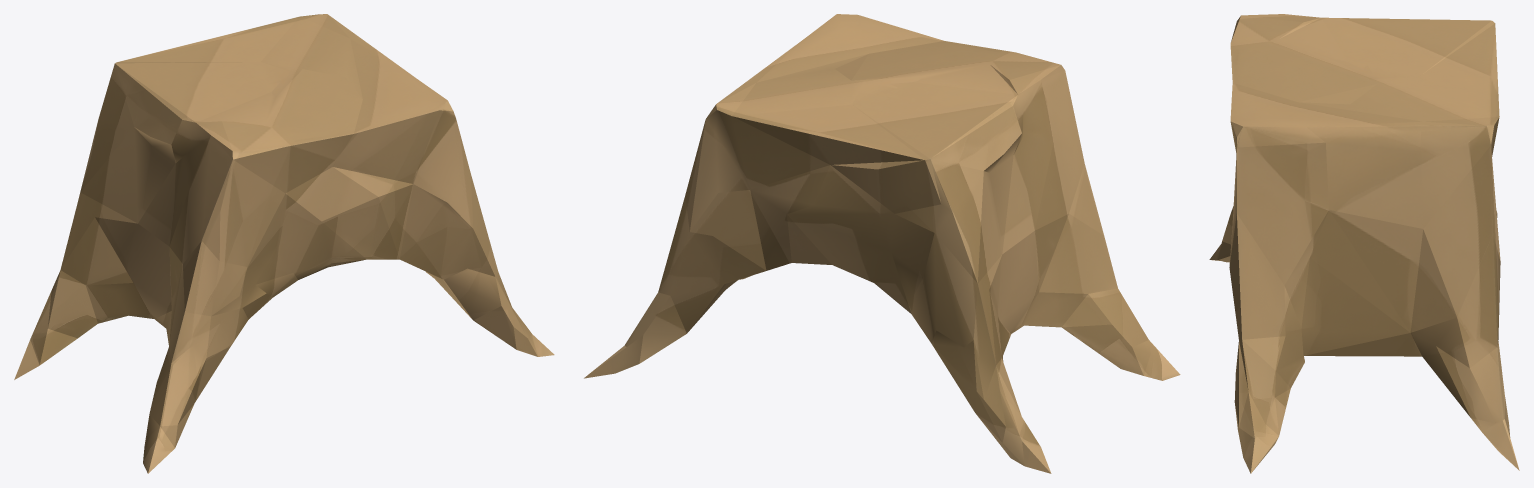
Rendered from Meshy_AI_Box_Cloth_Cover_Lowpo_1007092946_texture.fbx.
3 views of the same model, side by side, from view 1: azimuth 30°, elevation 25°; view 2: azimuth 150°, elevation 25°; view 3: azimuth 270°, elevation 25° (orthographic). The views are drawn at different scales.
Visible parts, largest first — view 1: output_unwrapped; view 2: output_unwrapped; view 3: output_unwrapped.
Boxes of the visible parts, x1,y1,x2,y2 form: output_unwrapped: (14,14,554,473); output_unwrapped: (584,14,1180,473); output_unwrapped: (1209,14,1519,473).
Size of the model in its own units: 189 by 121 by 115.
Materials: 1 (1 with a texture image).
